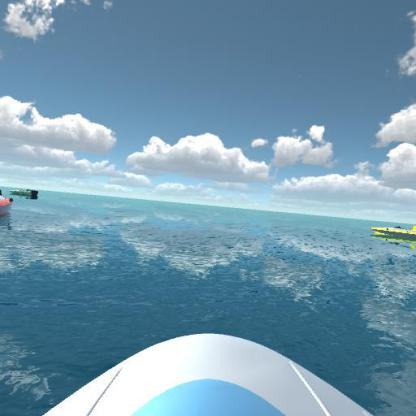usv0: (10, 184, 40, 202)
usv2: (371, 217, 415, 252)
usv3: (0, 188, 14, 219)
